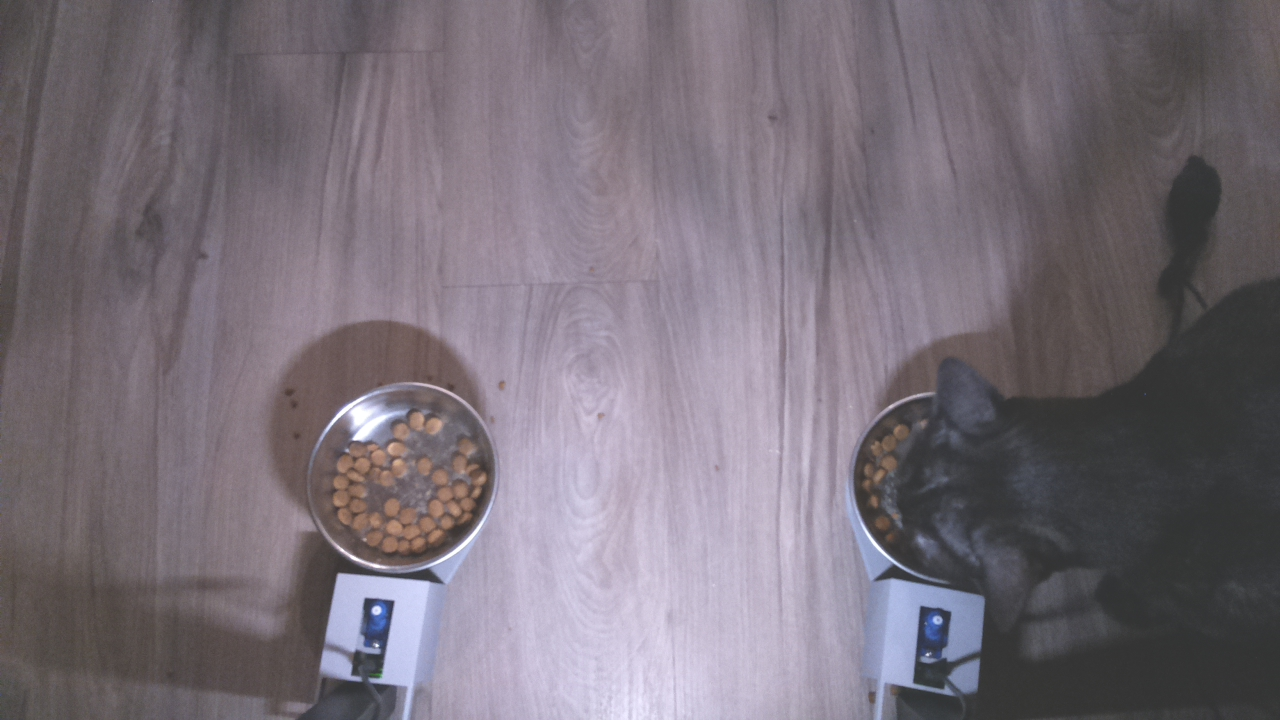open_bowl: (304, 373, 505, 576)
saki_eating: (837, 348, 1157, 640)
